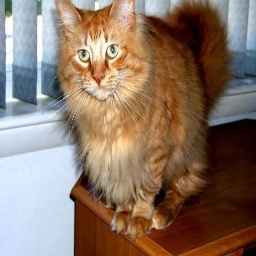cat: (57, 3, 218, 238)
